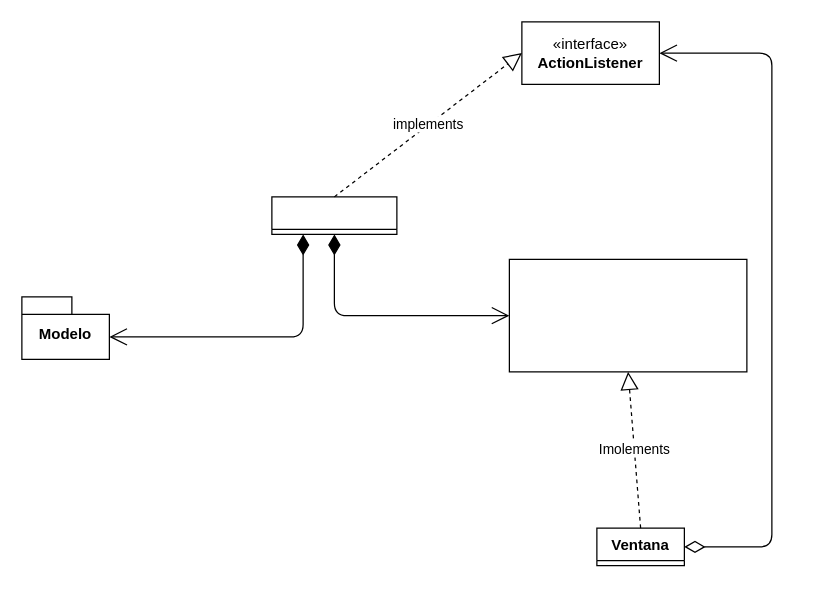
The diagram is 815 pixels wide and 590 high, and some of its shapes have lost their labels. Each missing label, with the centre of its shape:
"<<Interface>> IVista + method1(Type): Type + method2(Type, Type): Type" belongs at point 627,315.
"Controlador" belongs at point 334,215.
